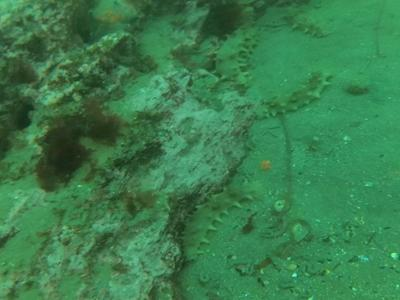holothurian: (177, 182, 262, 264), (253, 71, 335, 121), (215, 23, 257, 90), (287, 12, 330, 39)
